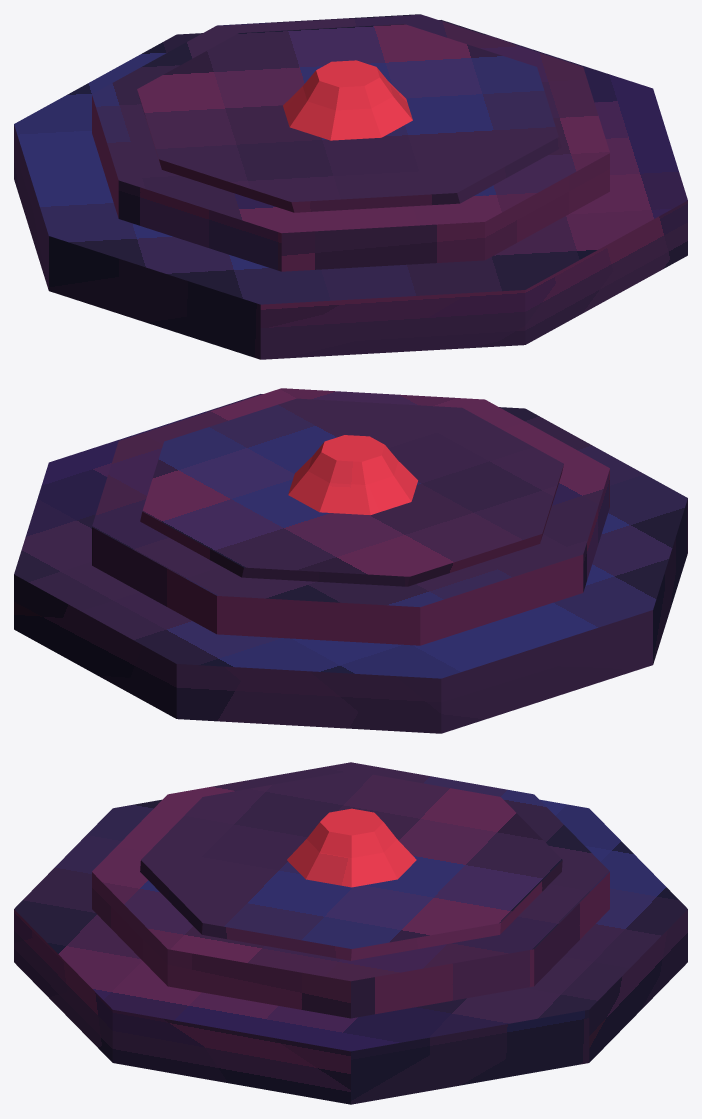
Rendered from mine.fbx.
The picture shows the model from 3 angles, top to bottom: view 1: azimuth 30°, elevation 25°; view 2: azimuth 150°, elevation 25°; view 3: azimuth 270°, elevation 25°; orthographic projection. The views are drawn at different scales.
Visible parts, largest first — view 1: mine; view 2: mine; view 3: mine.
Boxes of the visible parts, <box> form: mine: <box>14,14,687,359</box>; mine: <box>14,388,687,733</box>; mine: <box>14,762,687,1104</box>.
Bounding box in the file's own units: 200 × 45.49 × 200.
Materials: 1 (1 with a texture image).
